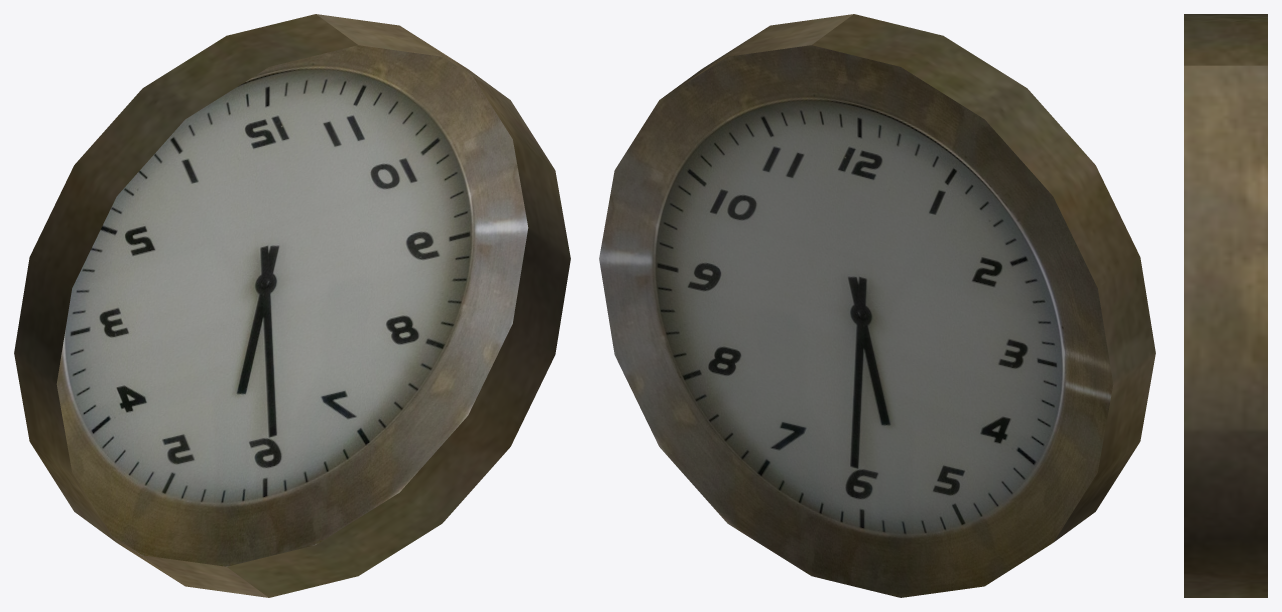
Rendered from Часы.fbx.
3 views of the same model, side by side, from view 1: azimuth 30°, elevation 25°; view 2: azimuth 150°, elevation 25°; view 3: azimuth 270°, elevation 25° (orthographic).
Parts seen in each view (by area): view 1: Часы; view 2: Часы; view 3: Часы.
Part boxes in pixels (bbox=[...]): Часы: bbox=[14, 14, 570, 597]; Часы: bbox=[599, 14, 1155, 597]; Часы: bbox=[1184, 14, 1267, 597].
Bounding box in the file's own units: 34.93 × 34.47 × 5.01.
Materials: 1 (1 with a texture image).
